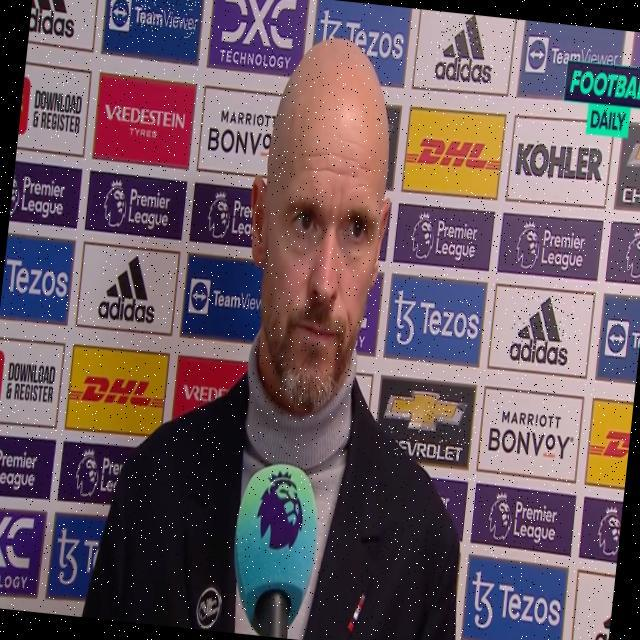Adidas: (508, 292, 575, 368), (97, 249, 162, 326), (433, 14, 497, 86)
Chevrolet: (382, 383, 471, 464)
Kohler: (515, 138, 606, 185)
TeamViewer: (108, 0, 201, 38)
